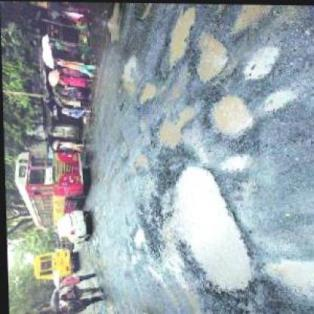Hueco: (164, 162, 250, 293), (152, 3, 199, 78), (257, 254, 313, 295), (148, 105, 196, 151), (190, 30, 230, 83), (204, 93, 250, 138), (238, 44, 284, 81), (228, 4, 272, 34), (254, 86, 298, 113), (116, 53, 138, 96), (216, 151, 251, 173), (133, 78, 158, 106), (124, 152, 148, 176), (130, 223, 142, 248)
